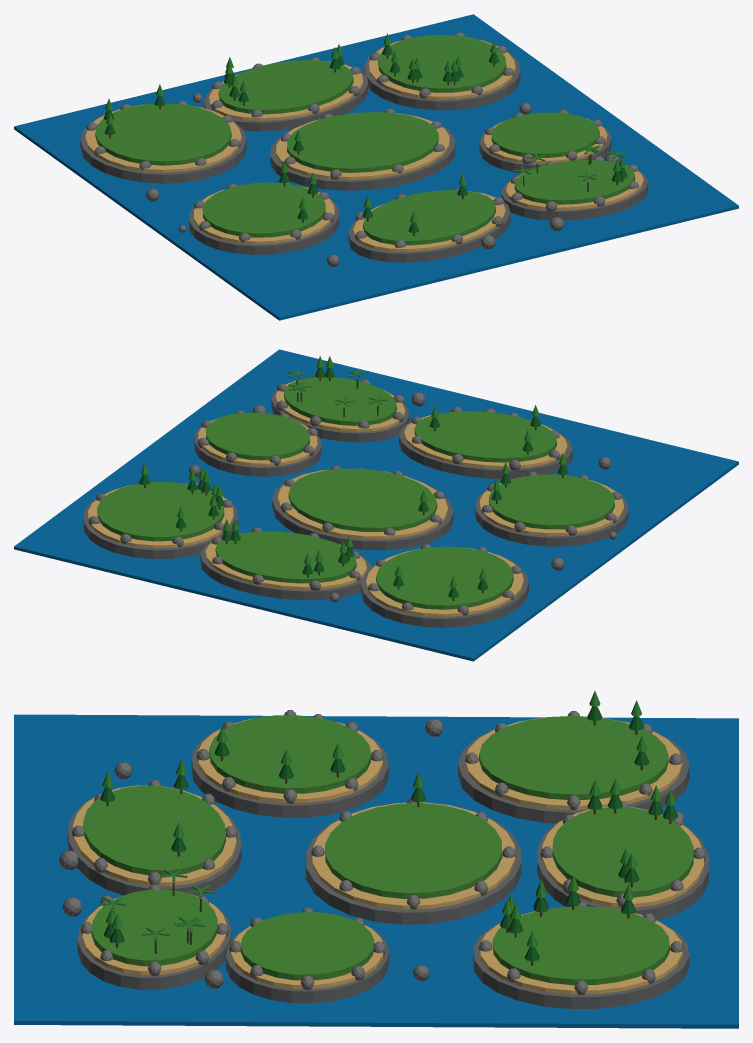
The model's file is IslandTerrain.glb.
The picture shows the model from 3 angles, top to bottom: view 1: azimuth 30°, elevation 25°; view 2: azimuth 150°, elevation 25°; view 3: azimuth 270°, elevation 25°; orthographic projection. The views are drawn at different scales.
Parts seen in each view (by area): view 1: Ocean, CENTER_Grass, CENTER_Cliff0, CENTER_Sand, CENTER_Pine2_Low, CENTER_Pine2_Top; view 2: Ocean, CENTER_Grass, CENTER_Cliff0, CENTER_Sand, CENTER_Pine2_Low, CENTER_Pine2_Top; view 3: Ocean, CENTER_Grass, CENTER_Cliff0, CENTER_Sand, CENTER_Pine2_Low, CENTER_Pine2_Top.
Boxes of the visible parts, x1,y1,x2,y2 form: Ocean: (14,14,738,320); CENTER_Grass: (95,35,634,245); CENTER_Cliff0: (80,32,648,266); CENTER_Sand: (85,37,643,251); CENTER_Pine2_Low: (103,45,627,232); CENTER_Pine2_Top: (105,33,626,222); Ocean: (14,349,738,661); CENTER_Grass: (97,368,614,609); CENTER_Cliff0: (83,375,628,627); CENTER_Sand: (88,380,623,616); CENTER_Pine2_Low: (139,367,568,597); CENTER_Pine2_Top: (141,356,566,587); Ocean: (14,714,738,1028); CENTER_Grass: (83,715,693,985); CENTER_Cliff0: (59,710,708,1008); CENTER_Sand: (73,717,703,994); CENTER_Pine2_Low: (100,706,677,961); CENTER_Pine2_Top: (102,691,675,947).
Bounding box in the file's own units: 29.4 × 2.85 × 29.4.
